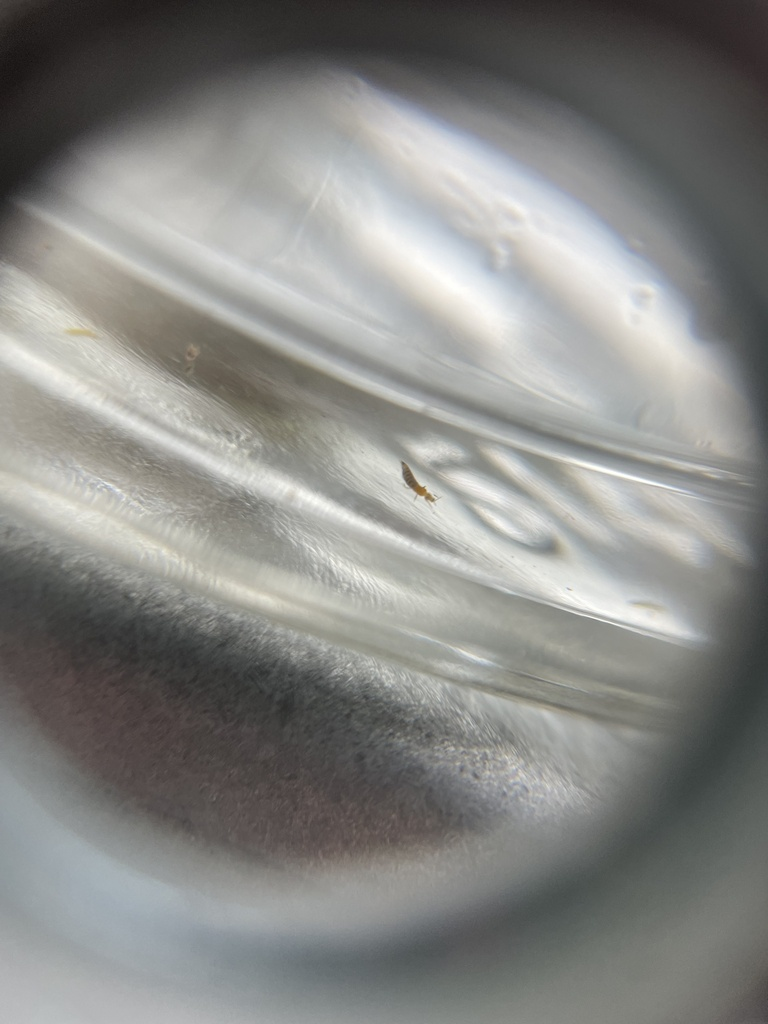tiny_pests: (387, 442, 455, 520)
